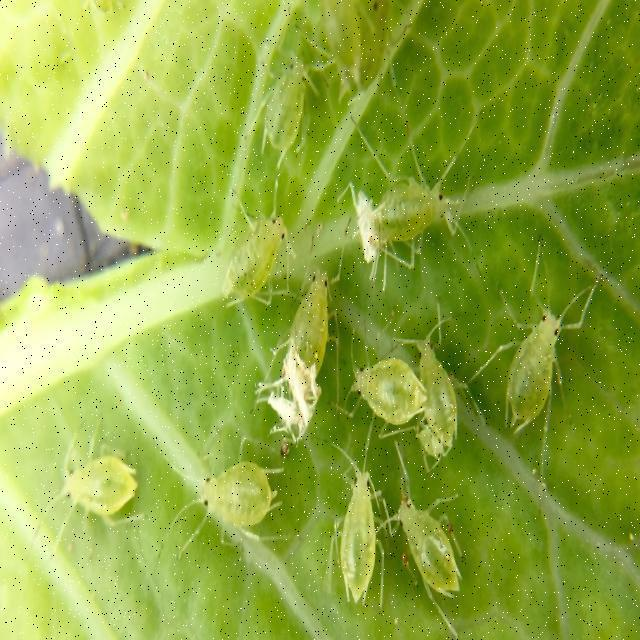Aphids: (487, 232, 600, 479), (168, 412, 284, 571), (35, 426, 148, 566), (357, 138, 467, 279), (313, 439, 395, 620), (401, 297, 470, 479), (250, 21, 327, 172), (390, 465, 467, 616), (331, 332, 426, 454), (220, 187, 297, 315), (276, 251, 348, 385), (257, 342, 331, 470)
